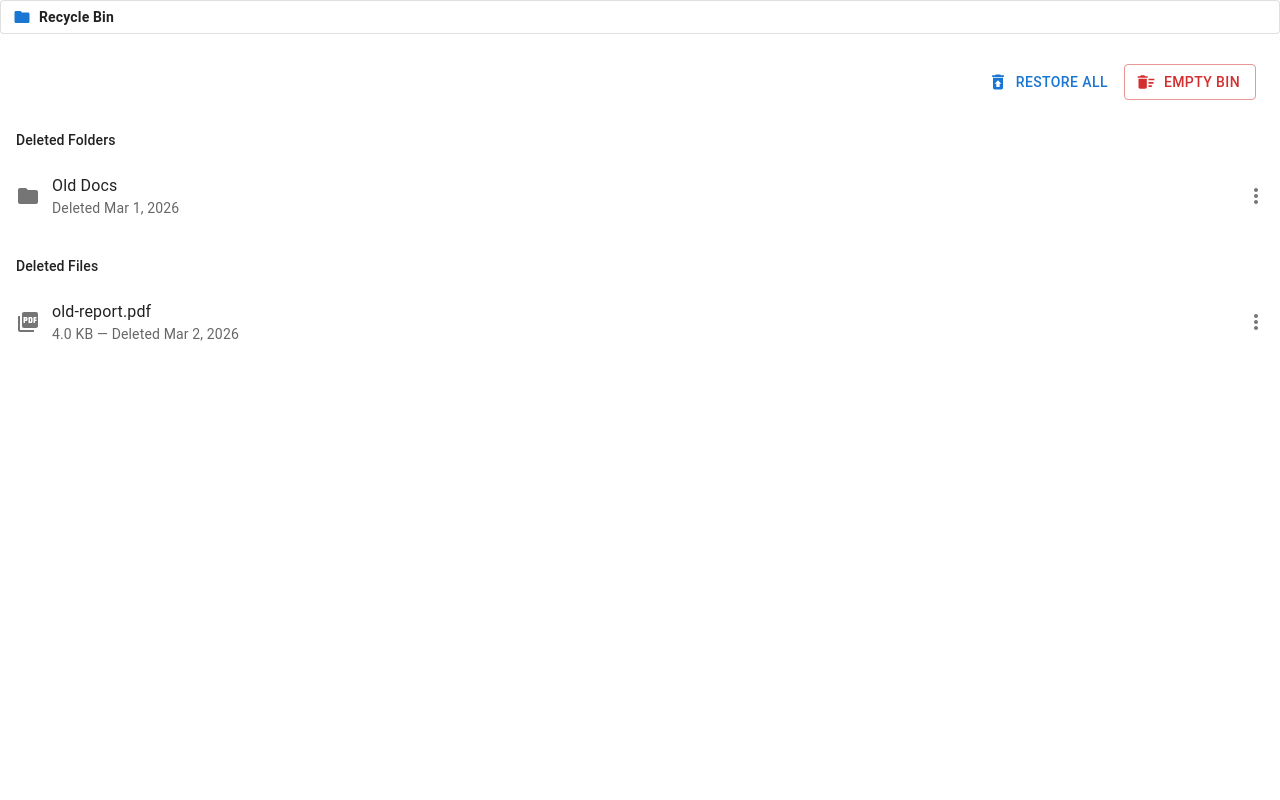
it: RecycleBinPage › opens confirmation dialog on Empty Bin click
Click the button "Empty Bin" at (1190,82), box [1124, 64, 1256, 100]
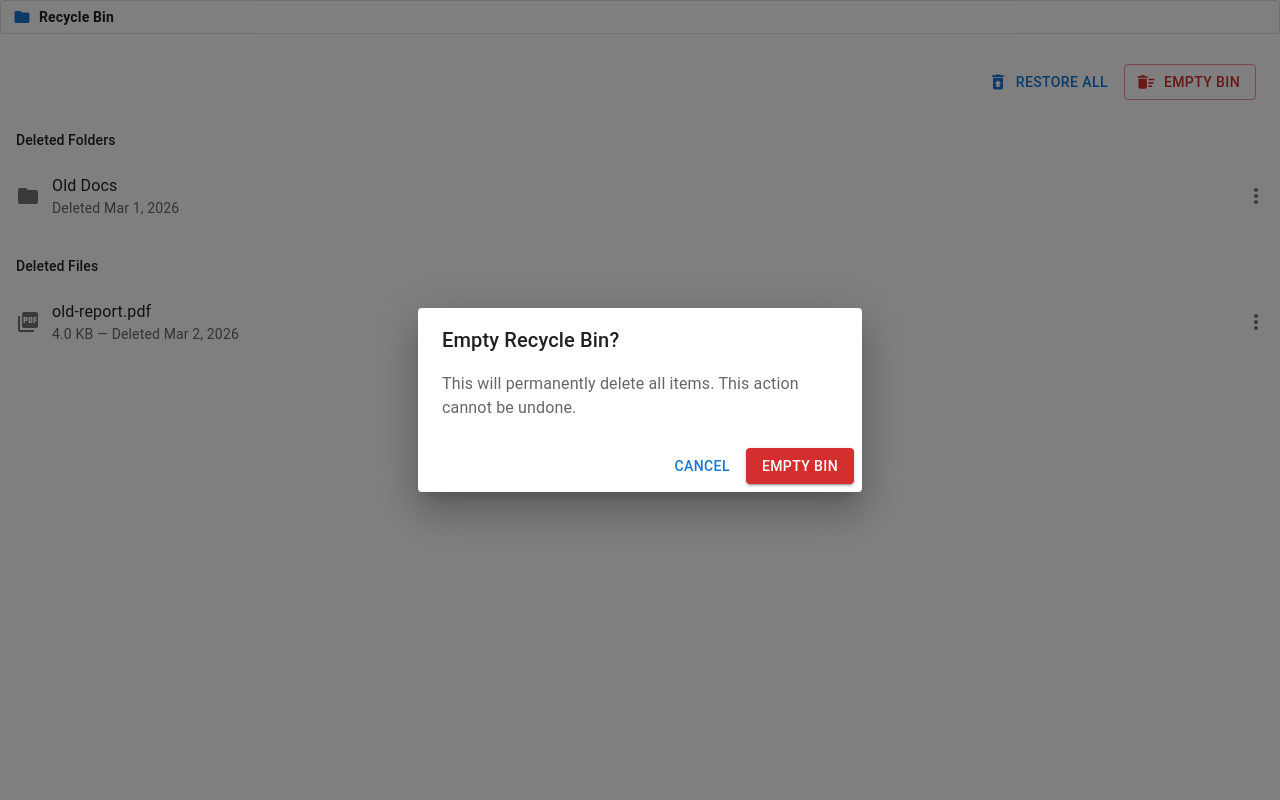
Expected: the heading "Empty Recycle Bin?" is shown, [442, 328, 619, 352]
Expected: the text "This will permanently delete all items. This action cannot be undone." is shown, [442, 372, 838, 420]
